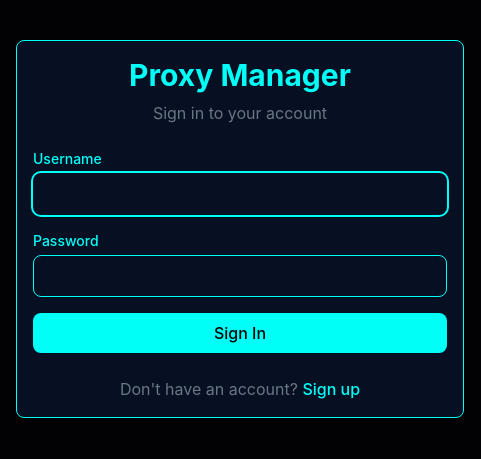
Login › should validate required fields
Click the button "Sign In": (240, 333) [33, 313, 447, 353]
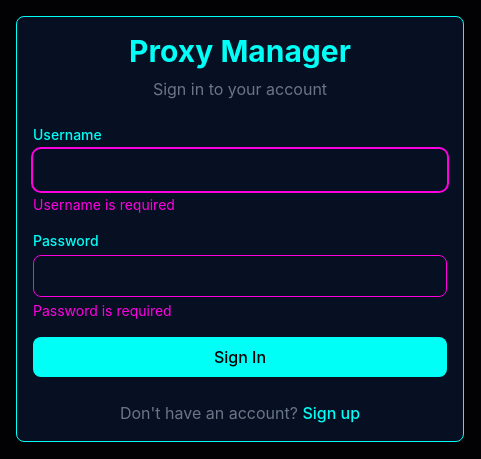
Expected: the text "Username is required" is shown, [33, 196, 175, 213]
Expected: the text "Password is required" is shown, [33, 302, 172, 319]
